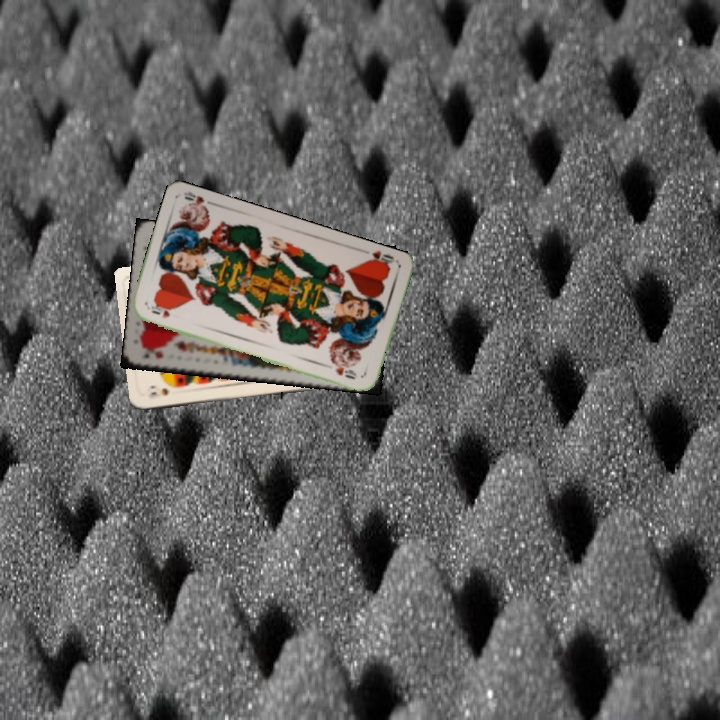HK: (140, 347, 166, 362)
HO: (362, 247, 400, 271), (144, 302, 172, 321)
S10: (144, 385, 172, 402)
